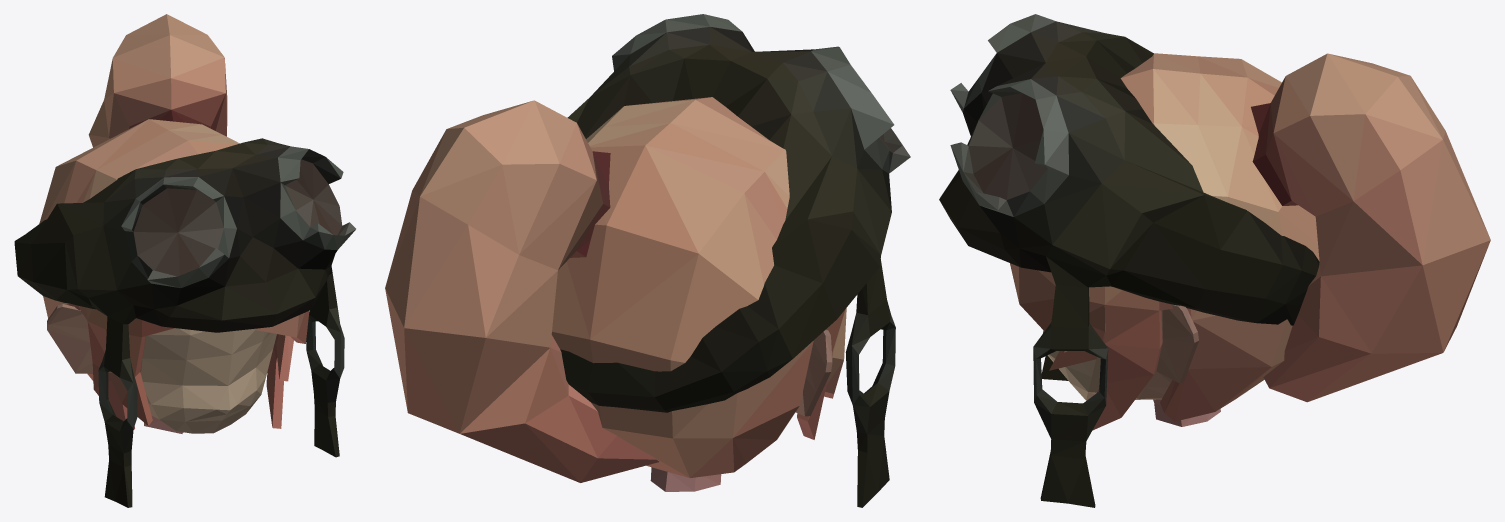
Rendered from helm_lightskin_ponytail_blonde_goggles.fbx.
3 views of the same model, side by side, from view 1: azimuth 30°, elevation 25°; view 2: azimuth 150°, elevation 25°; view 3: azimuth 270°, elevation 25° (orthographic). The views are drawn at different scales.
Parts seen in each view (by area): view 1: helm_lightskin_ponytail_blonde_goggles; view 2: helm_lightskin_ponytail_blonde_goggles; view 3: helm_lightskin_ponytail_blonde_goggles.
Boxes of the visible parts, bbox=[...] form: helm_lightskin_ponytail_blonde_goggles: bbox=[14, 14, 355, 507]; helm_lightskin_ponytail_blonde_goggles: bbox=[385, 14, 910, 507]; helm_lightskin_ponytail_blonde_goggles: bbox=[939, 14, 1490, 507].
Bounding box in the file's own units: 1.25 × 1.58 × 1.86.
